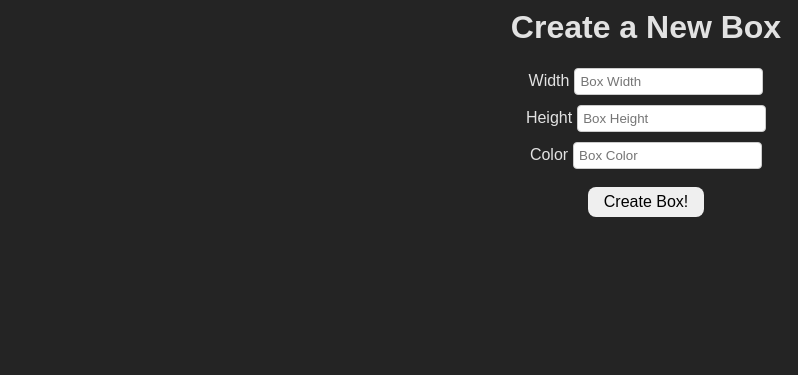
it: can add a box
// fill out the form
Type "5" into the field labelled "Width".
click(669, 81); type("5")  # box [574,68,764,95]
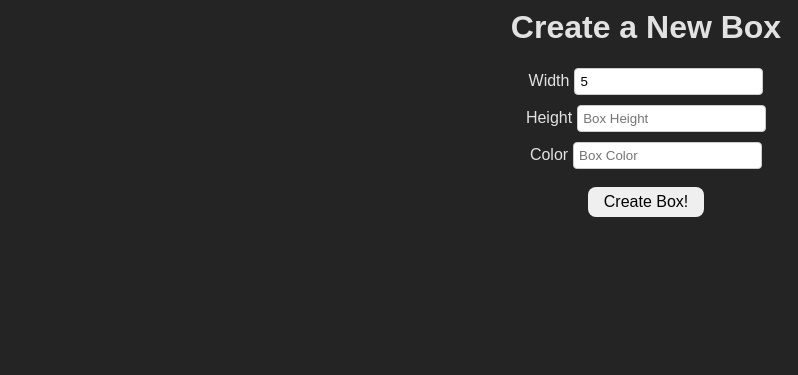
Type "5" into the field labelled "Height".
click(672, 118); type("5")  # box [577,105,766,132]
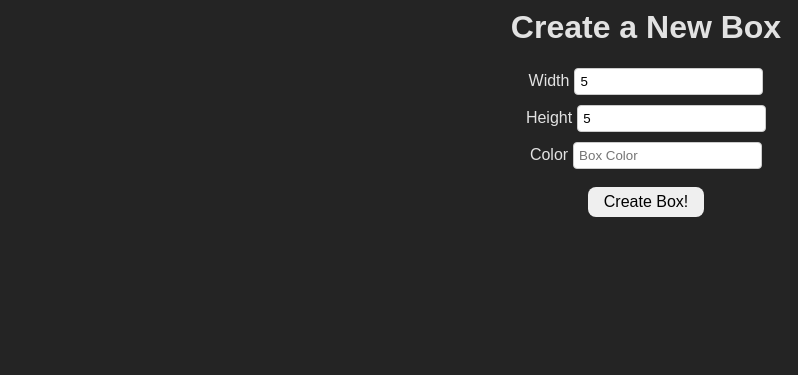
Type "blue" into the field labelled "Color".
click(668, 155); type("blue")  # box [573,142,762,169]
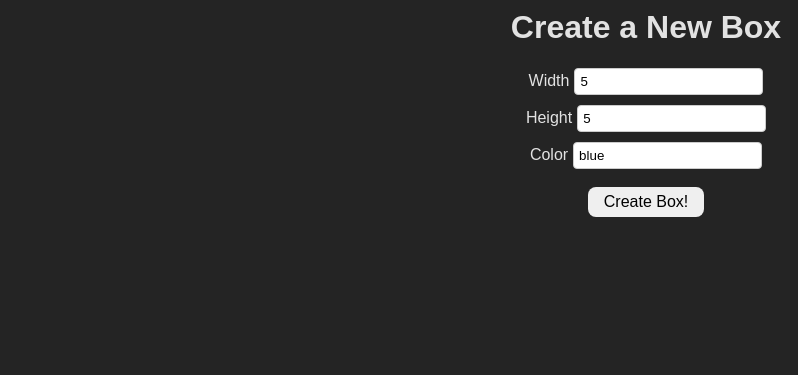
// submit form
Click the button "Create Box!".
click(646, 202)  # box [588,187,704,217]
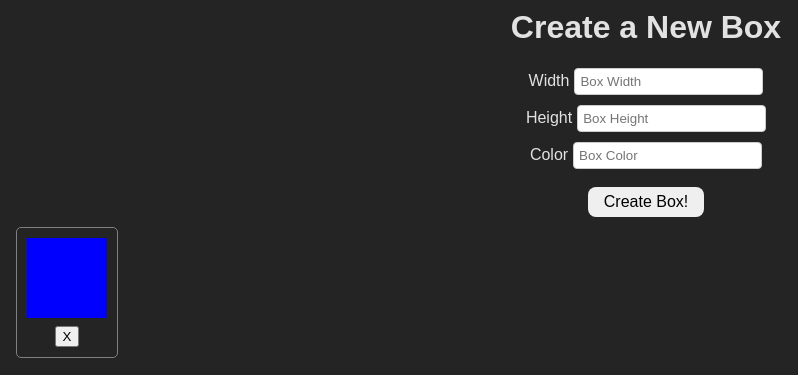
Expected: the button "X" is shown, [54,326,79,347]
